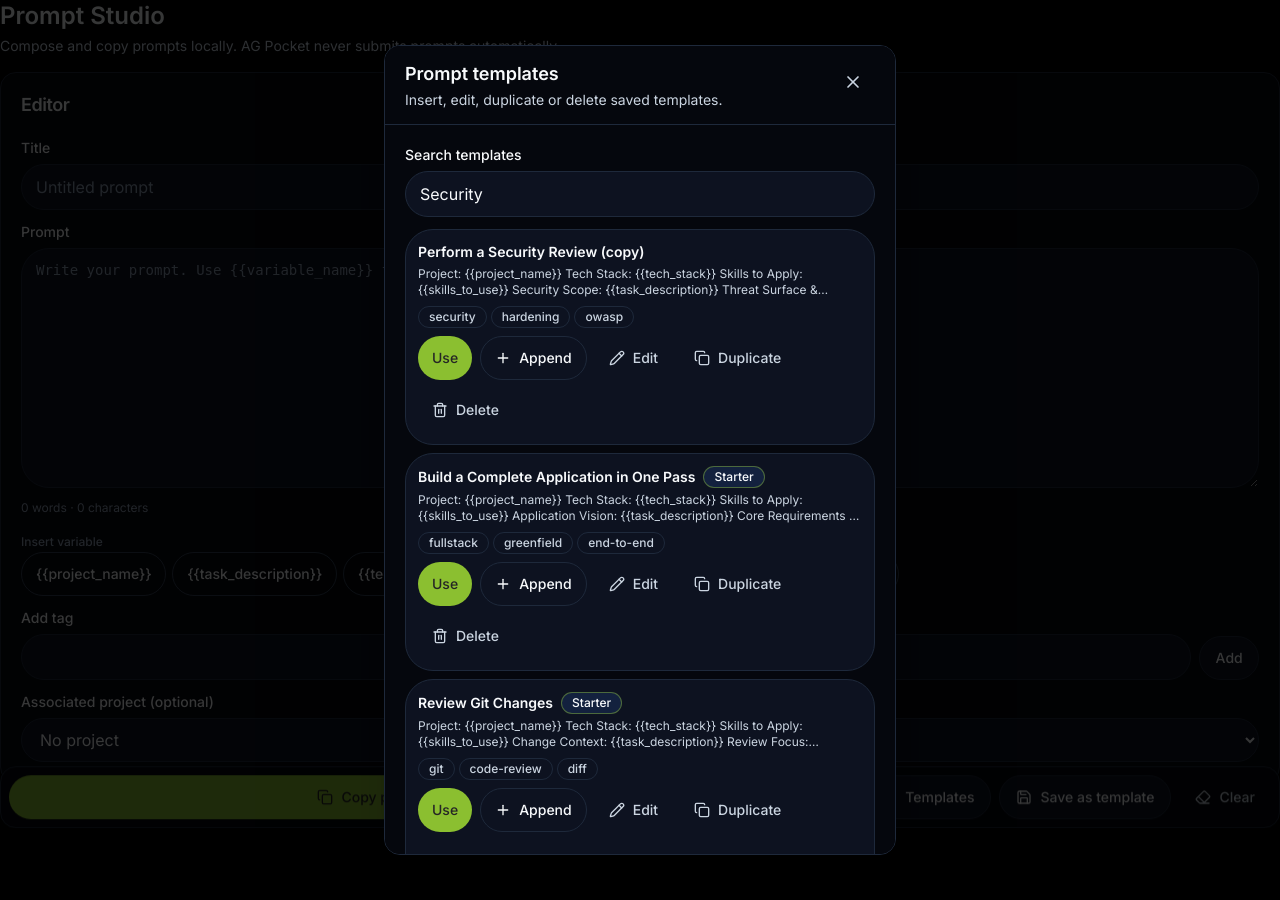
Test: PromptStudioPage › lists all 12 starter templates, supports search, Use, Append, Edit/Update, Duplicate, Detach, and Delete
The image size is (1280, 900).
Earlier steps of the test are not shown.
Check: the heading "Perform a Security Review (copy)" is shown, box [418,242,644,262]
// Edit/Use and Update template
Click the button with aria-label "Edit template Perform a Security Review (copy)": click(633, 358) [595,336,672,380]
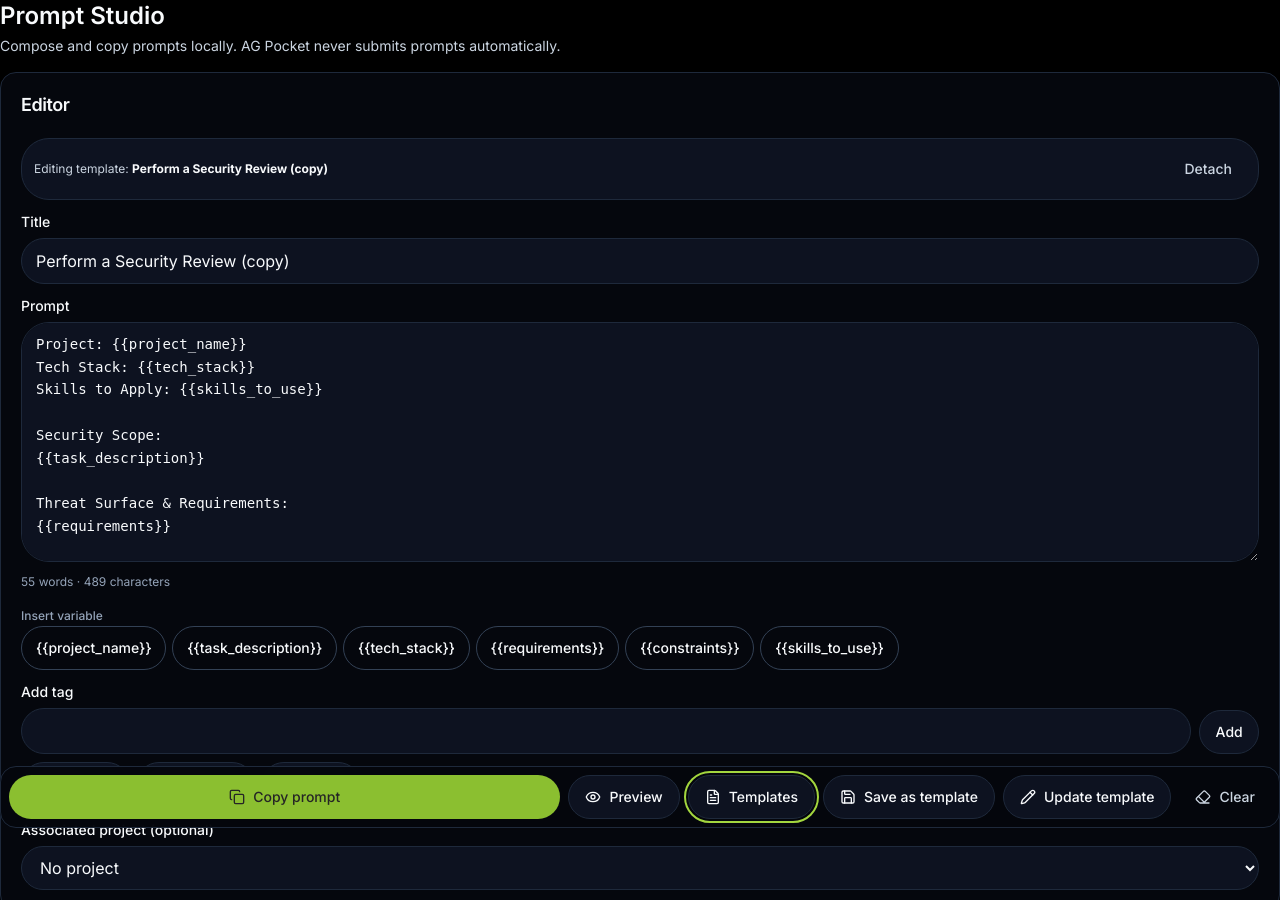
Check: the dialog is gone
Check: the text "Editing template: Perform a Security Review (copy)" is shown, box [34,161,328,177]
Replace the text in the field labelled "Title" with "Updated Security Review": (640, 261) [21,238,1259,284]
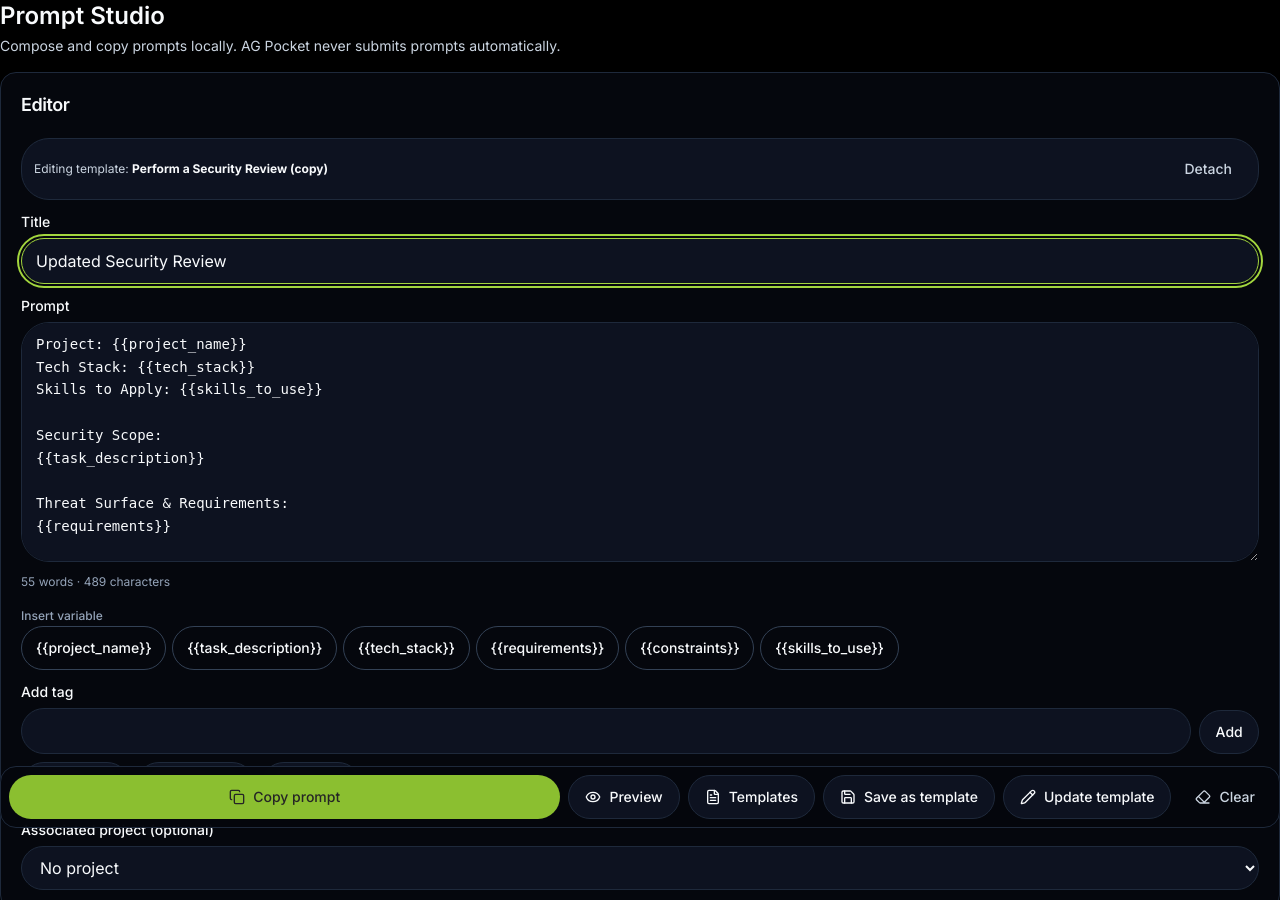
Click the button "Update template": click(1087, 797) [1003,775,1172,819]
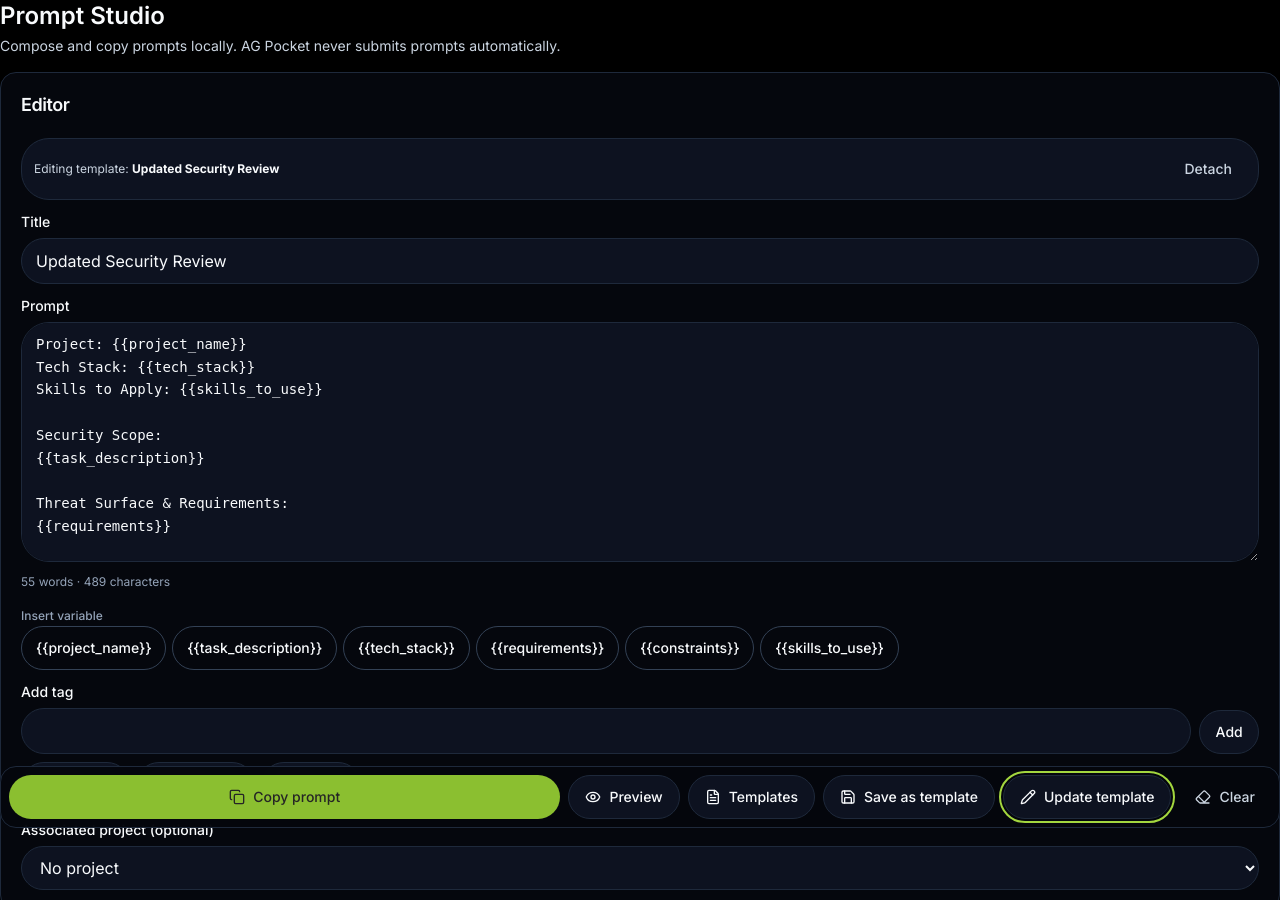
// Append template
Click the button "Templates": click(751, 797) [688,775,815,819]
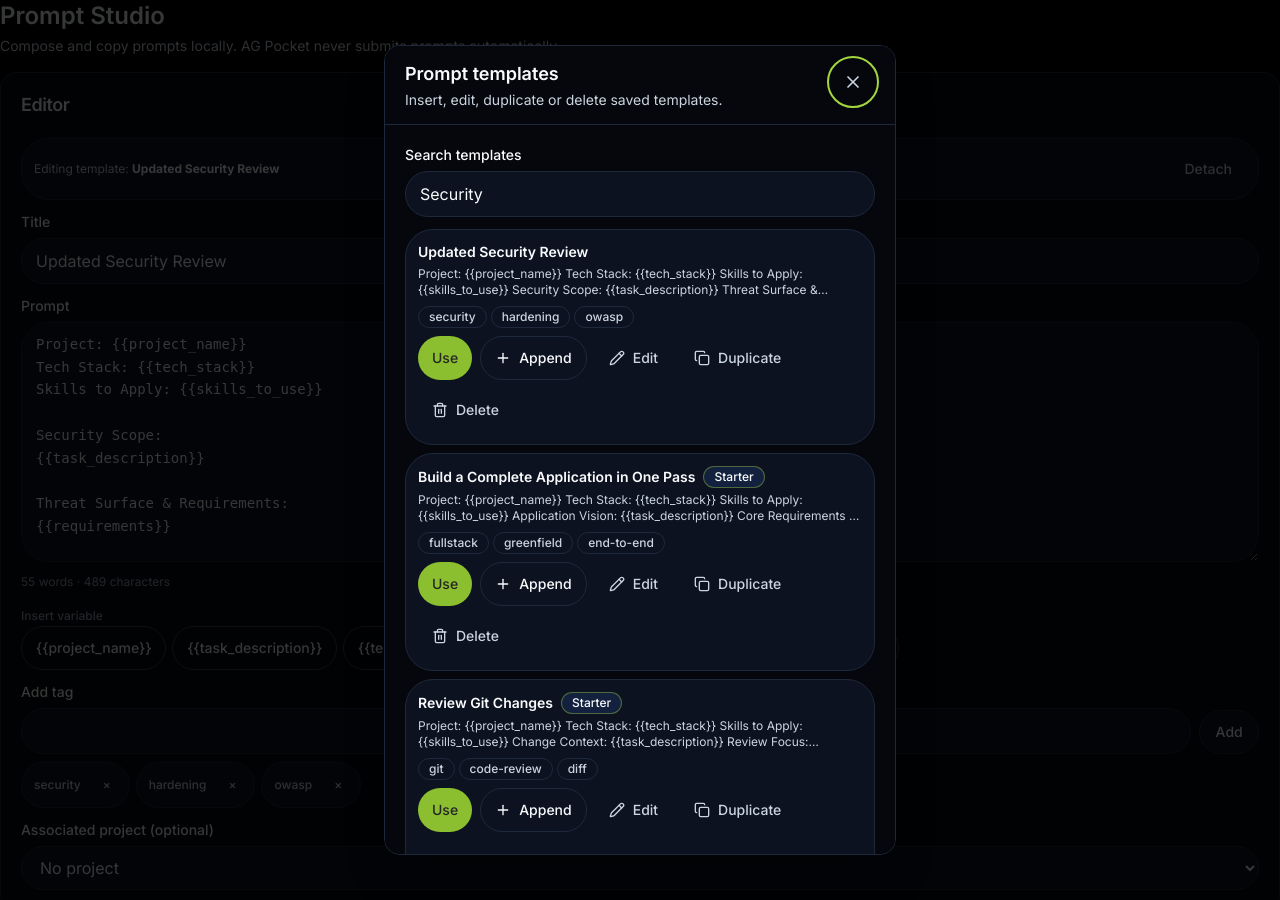
Click the button with aria-label "Append template Review Git Changes": click(533, 810) [480,788,587,832]
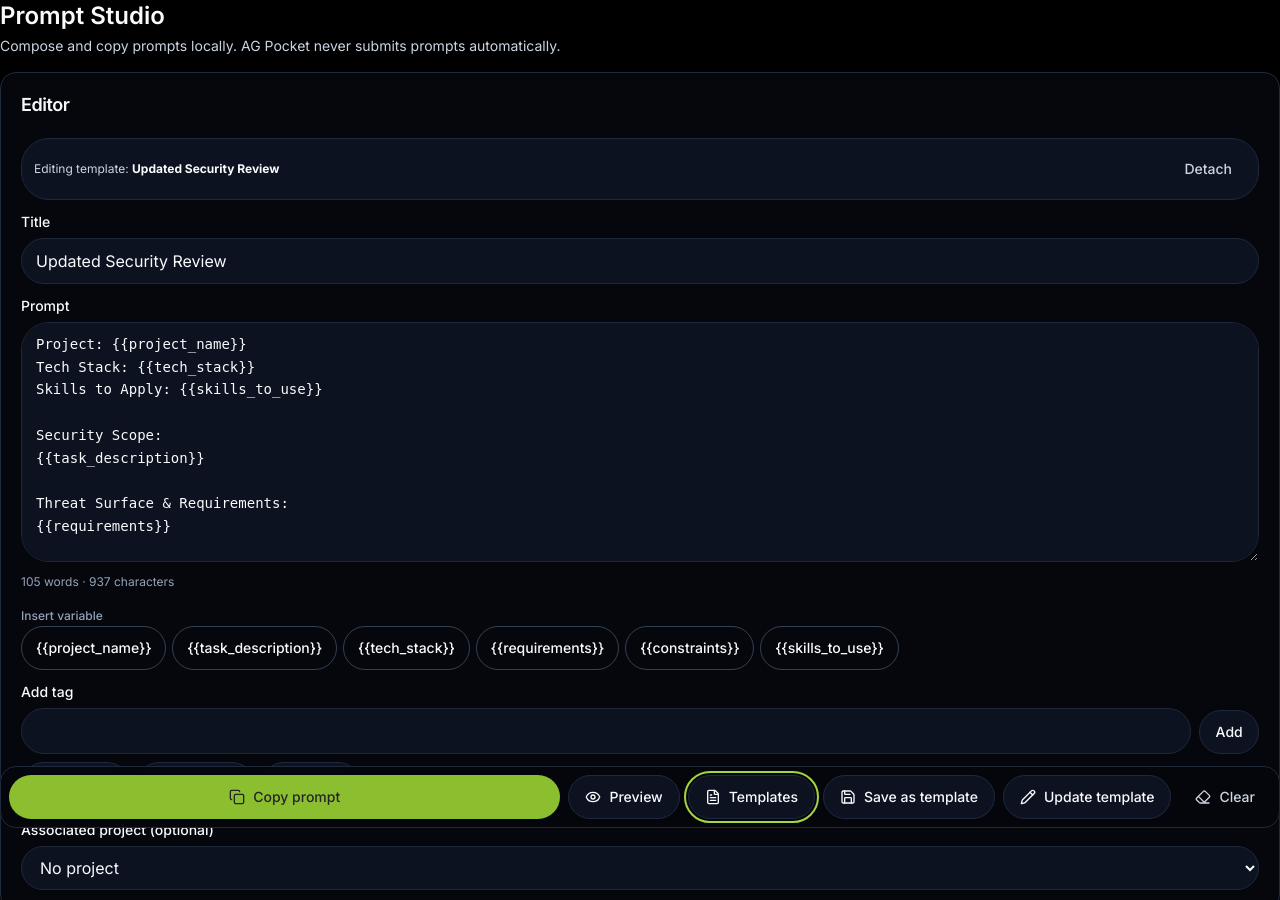
Check: the dialog is gone
// Detach active template
Click the button "Detach": click(1208, 169) [1170,147,1246,191]
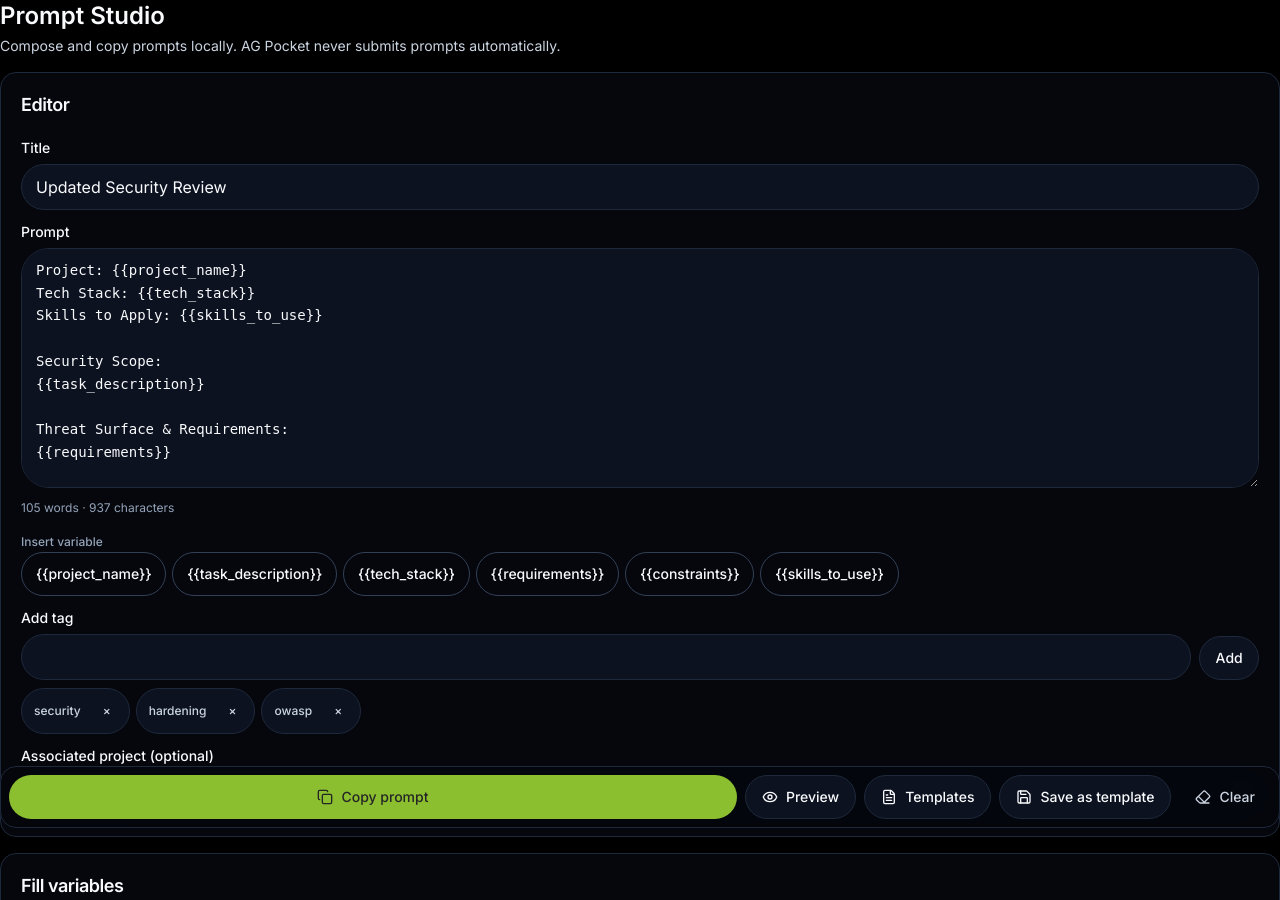
Check: the text "Editing template:" is gone
